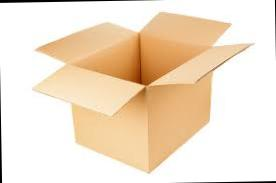cardboard: (24, 3, 256, 178)
